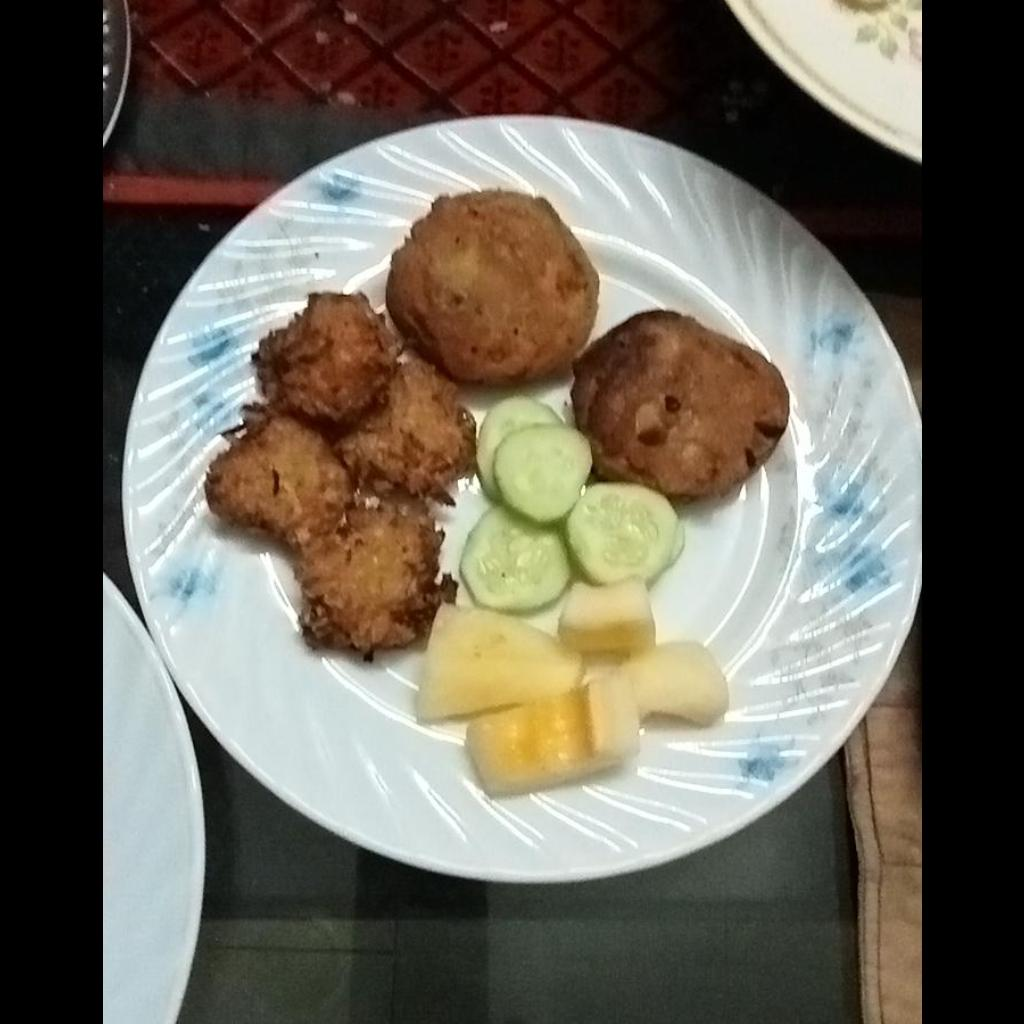chop-alu: (383, 192, 793, 504)
cucumber: (459, 392, 685, 604)
papaya: (417, 589, 727, 794)
peyaju: (206, 288, 477, 653)
